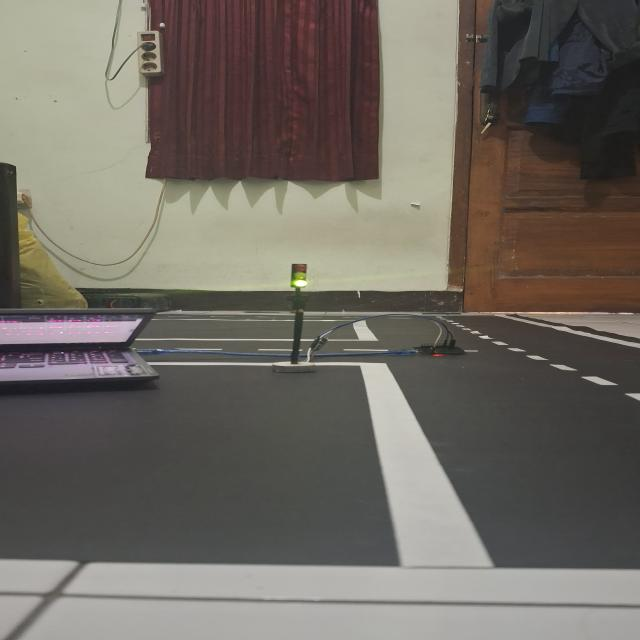Lampu Hijau: (290, 263, 308, 288)
